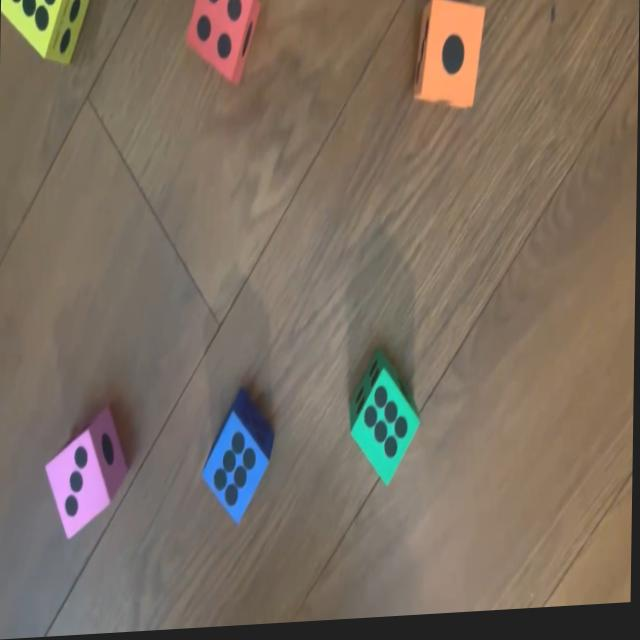cube: (348, 352, 421, 494), (203, 395, 275, 529), (184, 0, 260, 89)
